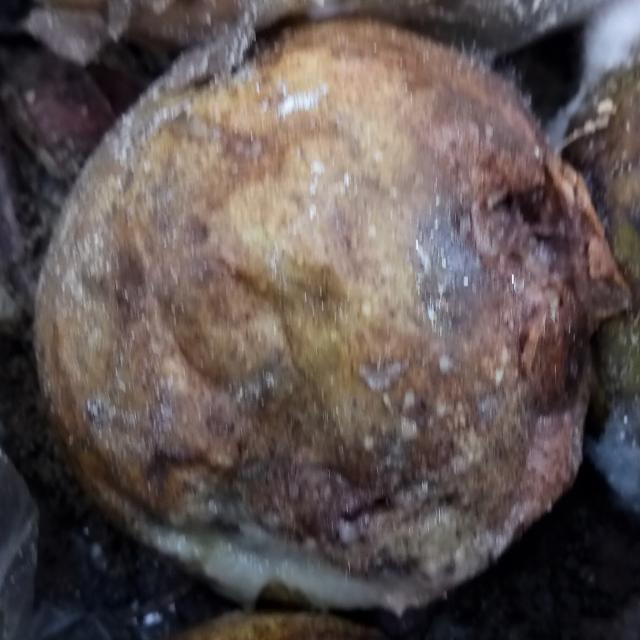Phytopthora: (35, 3, 640, 613)
